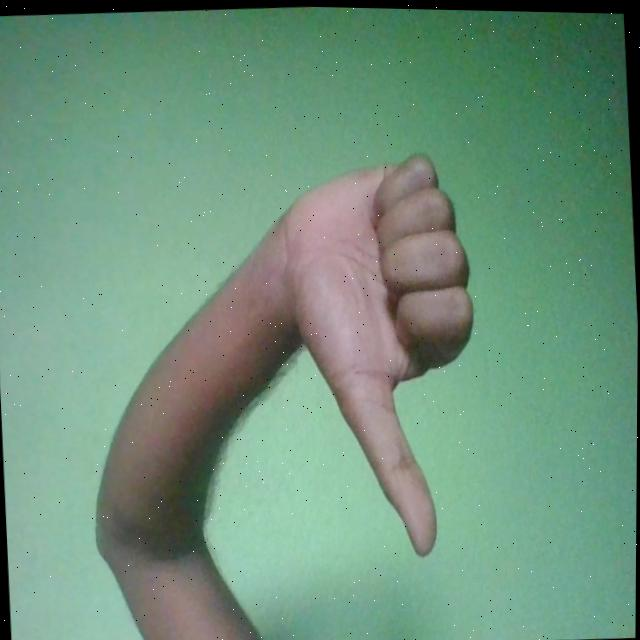Dislike: (270, 146, 487, 566)
